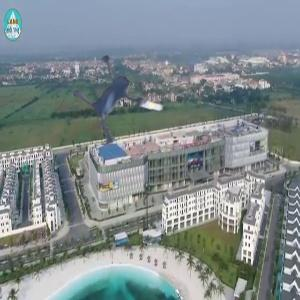drone: (60, 42, 185, 167)
